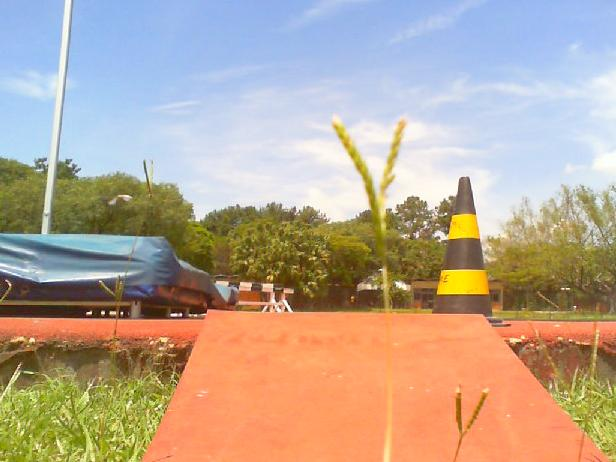0 cone: (431, 177, 512, 327)
